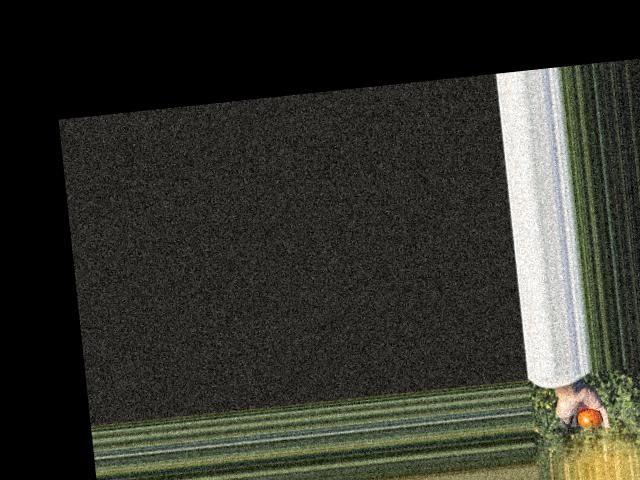tomato: (577, 407, 603, 431)
